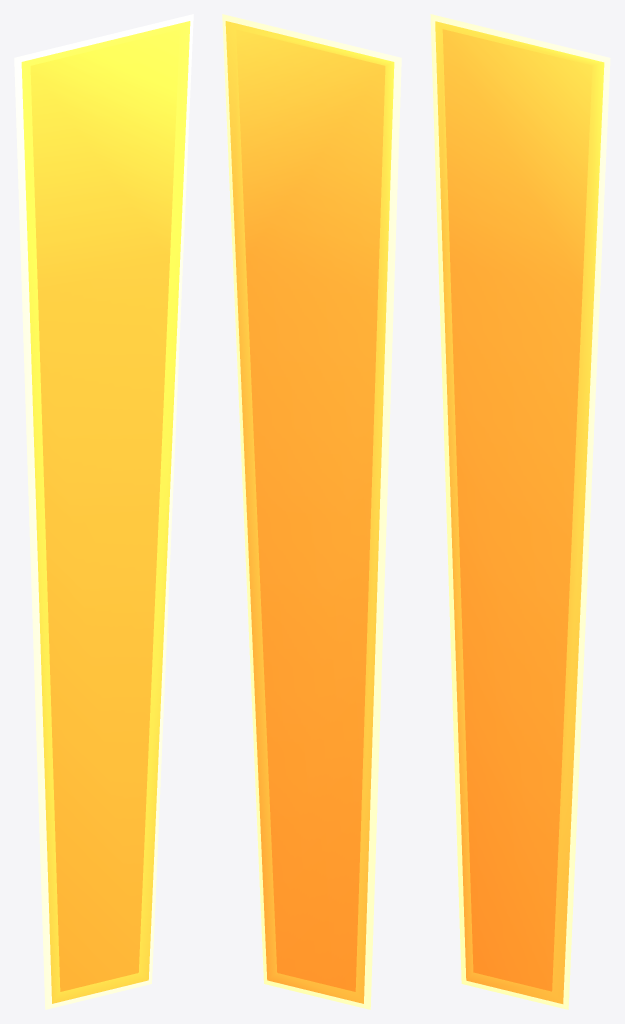
Rendered from gold_blade (18).glb.
3 renders of one model, left to right at view 1: azimuth 30°, elevation 25°; view 2: azimuth 150°, elevation 25°; view 3: azimuth 330°, elevation 25°, orthographic.
Visible parts, largest first — view 1: gold_blade_steel.039; view 2: gold_blade_steel.039; view 3: gold_blade_steel.039.
Part boxes in pixels (left/top/right/bottom): gold_blade_steel.039: left=14, top=14, right=193, bottom=1009; gold_blade_steel.039: left=222, top=14, right=401, bottom=1009; gold_blade_steel.039: left=430, top=14, right=610, bottom=1009.
Bounding box in the file's own units: 2.19 × 11.21 × 0.0882.
1 material, 1 textured.
